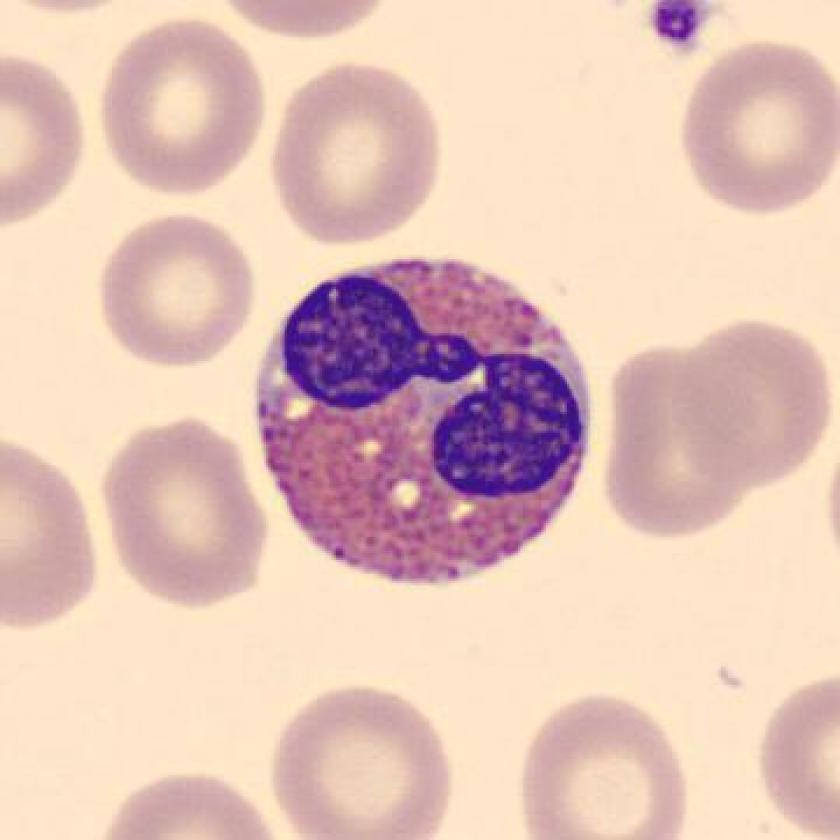eosinophil: (237, 244, 612, 605)
